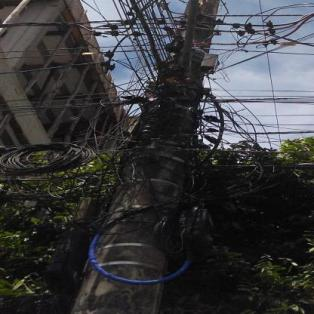Poste: (55, 0, 264, 314)
